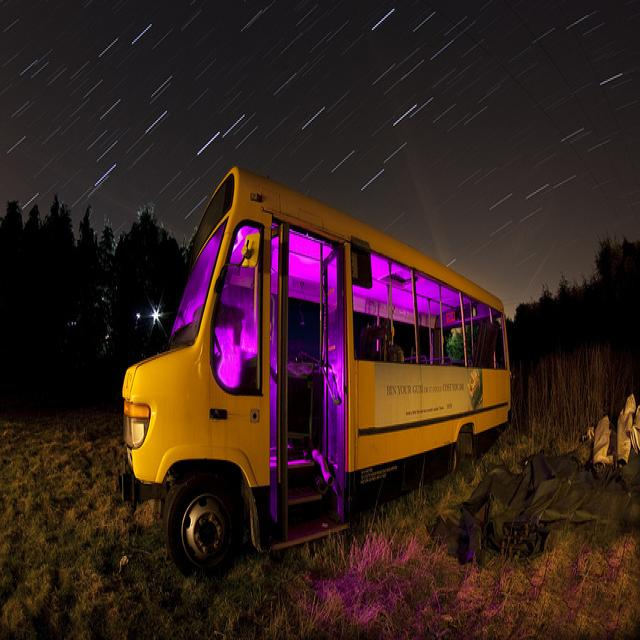Bus: (120, 160, 528, 592)
